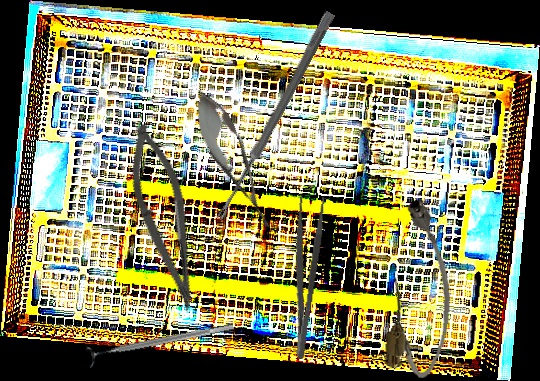Cannula: (382, 196, 461, 380)
Dressing Forceps: (279, 194, 328, 360)
Fixation Ring: (85, 314, 236, 370)
Micro Scissor: (113, 117, 220, 317), (181, 82, 286, 238)
Surgical Spoon: (214, 9, 336, 223)
